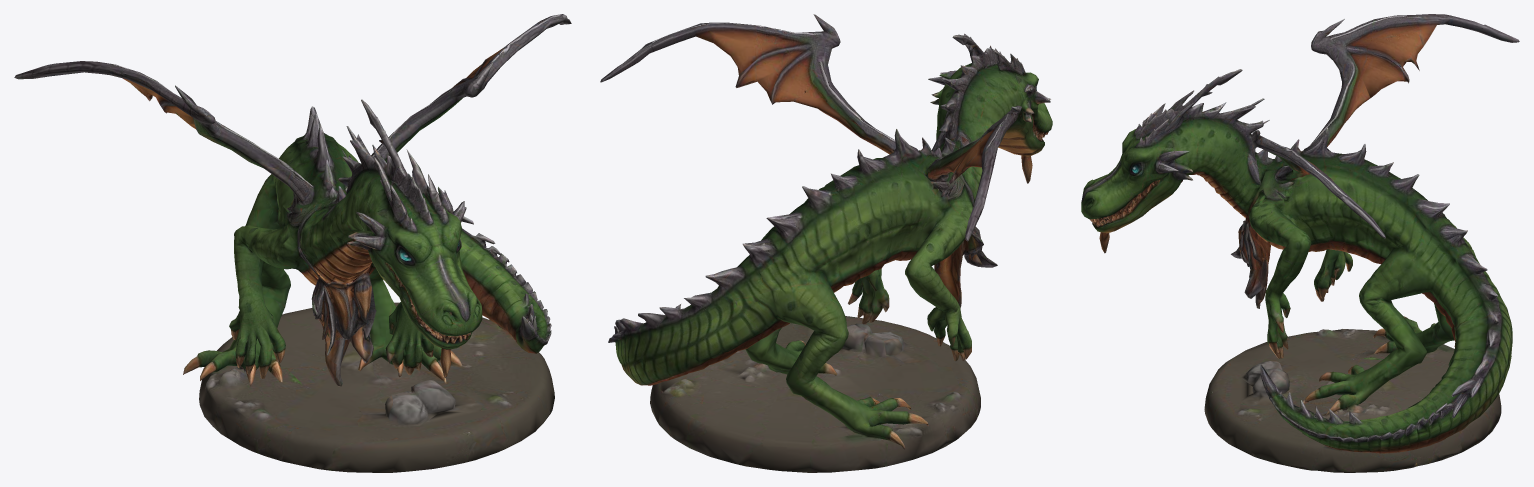
File: swamp_dragon.glb
The picture shows the model from 3 angles, left to right: view 1: azimuth 30°, elevation 25°; view 2: azimuth 150°, elevation 25°; view 3: azimuth 270°, elevation 25°; orthographic projection. The views are drawn at different scales.
Size of the model in its own units: 1.9 by 1.4 by 1.81.
Materials: 1 (1 with a texture image).
